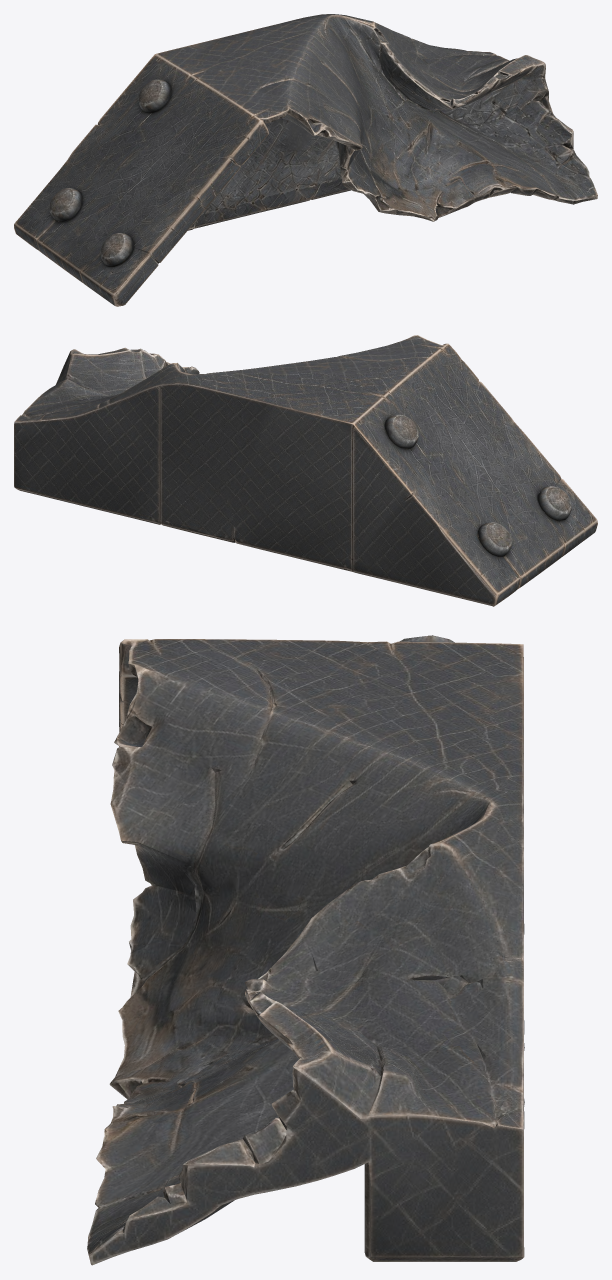
Rendered from shared_rubble_kit__girder_small_folded.glb.
The picture shows the model from 3 angles, top to bottom: view 1: azimuth 30°, elevation 25°; view 2: azimuth 150°, elevation 25°; view 3: azimuth 270°, elevation 25°; orthographic projection. The views are drawn at different scales.
Parts seen in each view (by area): view 1: mesh_node; view 2: mesh_node; view 3: mesh_node.
Part boxes in pixels (x1=…): mesh_node: x1=14, y1=14, x2=597, y2=306; mesh_node: x1=14, y1=335, x2=597, y2=606; mesh_node: x1=87, y1=635, x2=524, y2=1265.
Size of the model in its own units: 1.83 by 0.5713 by 0.7268.
1 material, 1 textured.
